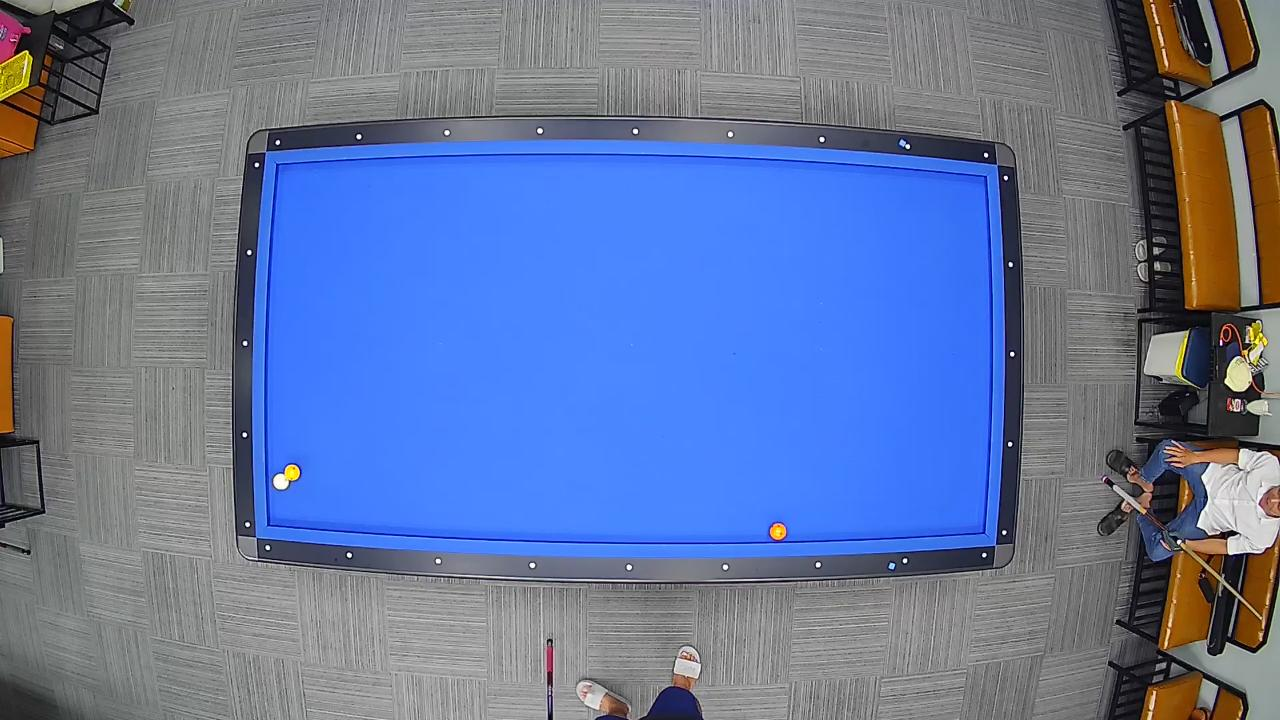Orange: (768, 522, 788, 542)
White: (272, 472, 290, 492)
Yellow: (284, 463, 302, 482)
